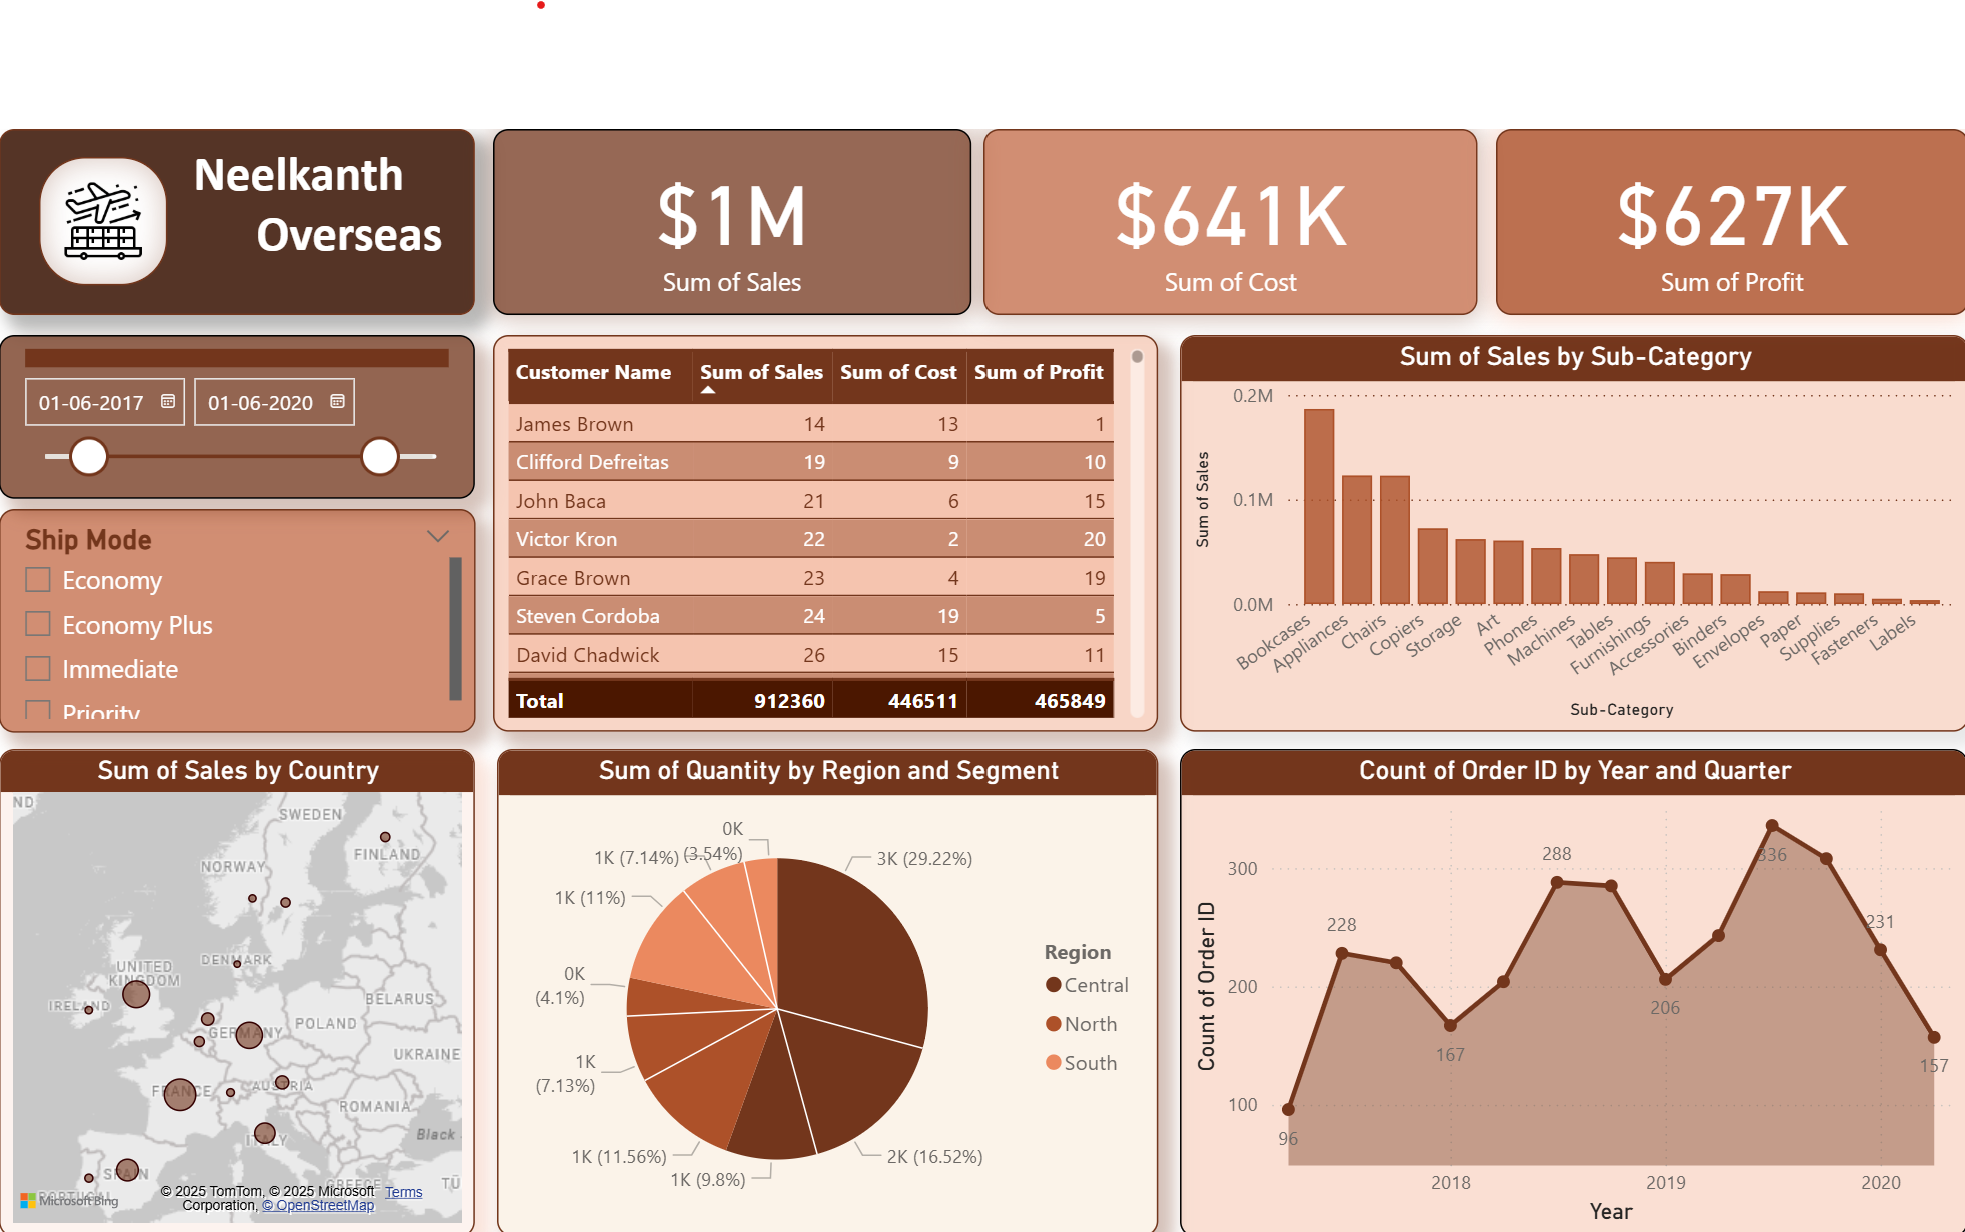

The page's visual inventory and layout, read from the dashboard file:
{"tool":"powerbi","page":{"name":"Page 1","canvas":[1280,720],"ordinal":0},"visuals":[{"type":"map","fields":{"Category":["List of Orders (2).Country"],"Size":["List of Orders (2).Sales"]},"box":[0,403.3,309.6,317.4],"z":0},{"type":"slicer","fields":{"Values":["List of Orders (2).Ship Mode"]},"box":[0,247,310.1,145.5],"z":1000},{"type":"slicer","fields":{"Values":["List of Orders (2).Order Date"]},"box":[0,134,309.6,106.7],"z":2000},{"type":"textbox","box":[0,0,309.6,121],"z":3000},{"type":"card","fields":{"Values":["List of Orders.Sales"]},"box":[321.3,0,310.9,121],"z":4000},{"type":"tableEx","fields":{"Values":["List of Orders (2).Customer Name","List of Orders (2).Sales","List of Orders (2).Cost","List of Orders (2).Profit"]},"box":[321.1,134.5,432.2,258],"z":5000},{"type":"clusteredColumnChart","fields":{"Category":["List of Orders (2).Sub-Category"],"Y":["List of Orders (2).Sales"]},"box":[767.1,134.5,513.2,258],"z":6000},{"type":"lineChart","fields":{"Y":["List of Orders (2).Order ID"],"Category":["List of Orders (2).Order Date.Variation.Date Hierarchy.Year","List of Orders (2).Order Date.Variation.Date Hierarchy.Quarter"]},"box":[767.5,403.3,512.5,317.4],"z":7000},{"type":"pieChart","fields":{"Category":["List of Orders (2).Region"],"Y":["List of Orders (2).Quantity"],"Series":["List of Orders (2).Segment"]},"box":[323.8,403.4,429.5,317],"z":8000},{"type":"card","fields":{"Values":["List of Orders.Cost"]},"box":[639.5,0,321.1,120.8],"z":9000},{"type":"card","fields":{"Values":["List of Orders.Profit"]},"box":[972.9,0,307.4,120.8],"z":10000},{"type":"image","box":[26,18.2,83.3,83.3],"z":11000}]}

Visuals, with their boxes in screenshot pixels (x1, y1, x2, y2):
map - List of Orders (2).Country x List of Orders (2).Sales: region(0, 756, 465, 1231)
slicer - List of Orders (2).Ship Mode: region(0, 510, 466, 739)
slicer - List of Orders (2).Order Date: region(0, 333, 465, 501)
textbox: region(0, 123, 465, 313)
card - List of Orders.Sales: region(484, 123, 972, 313)
tableEx - List of Orders (2).Customer Name x List of Orders (2).Sales: region(484, 334, 1162, 739)
clusteredColumnChart - List of Orders (2).Sub-Category x List of Orders (2).Sales: region(1184, 334, 1964, 739)
lineChart - List of Orders (2).Order ID x List of Orders (2).Order Date.Variation.Date Hierarchy.Year: region(1184, 756, 1964, 1231)
pieChart - List of Orders (2).Region x List of Orders (2).Quantity: region(488, 756, 1162, 1231)
card - List of Orders.Cost: region(983, 123, 1487, 312)
card - List of Orders.Profit: region(1507, 123, 1964, 312)
image: region(20, 151, 151, 282)
